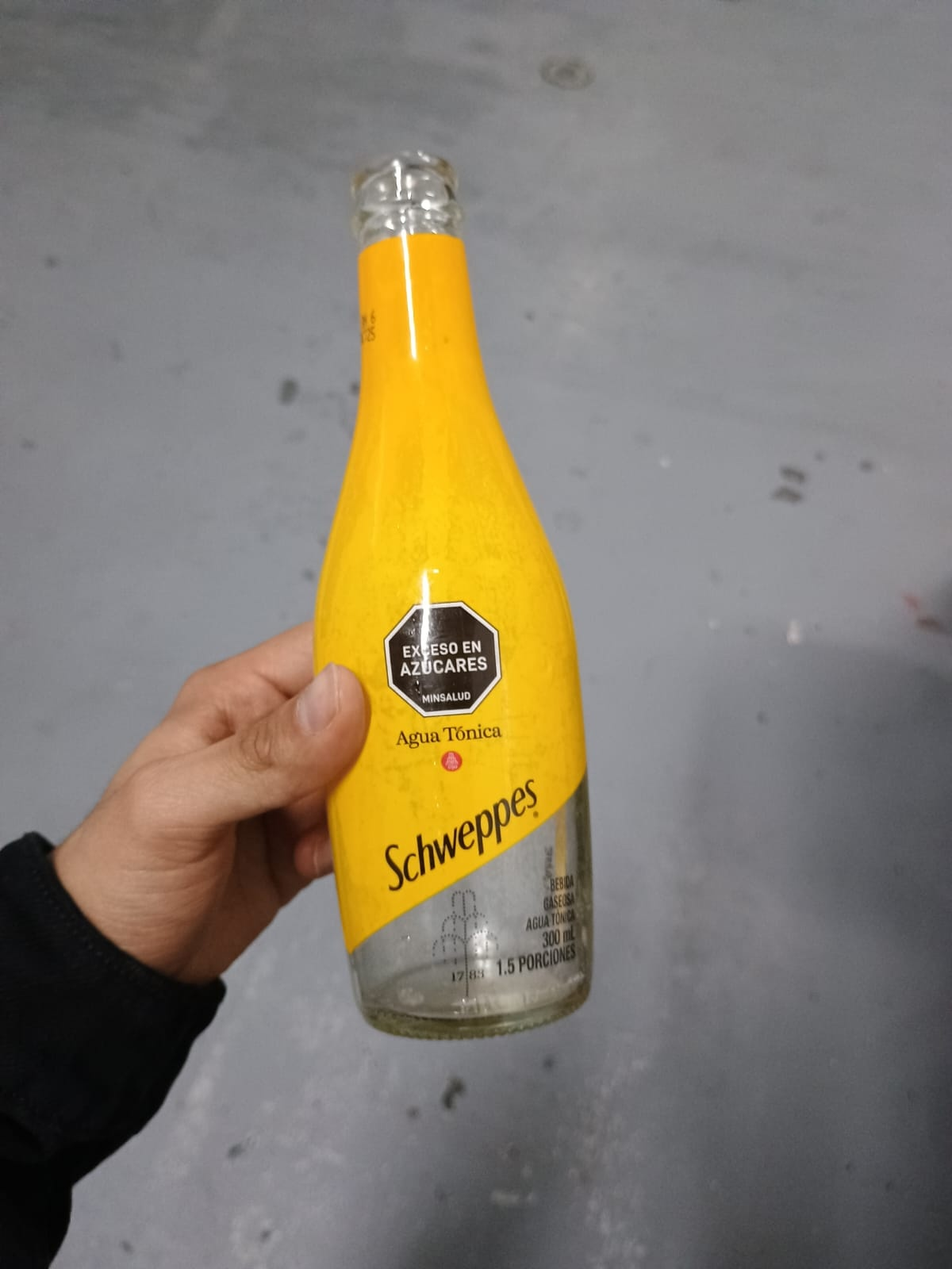Vidrio: (310, 154, 597, 1041)
